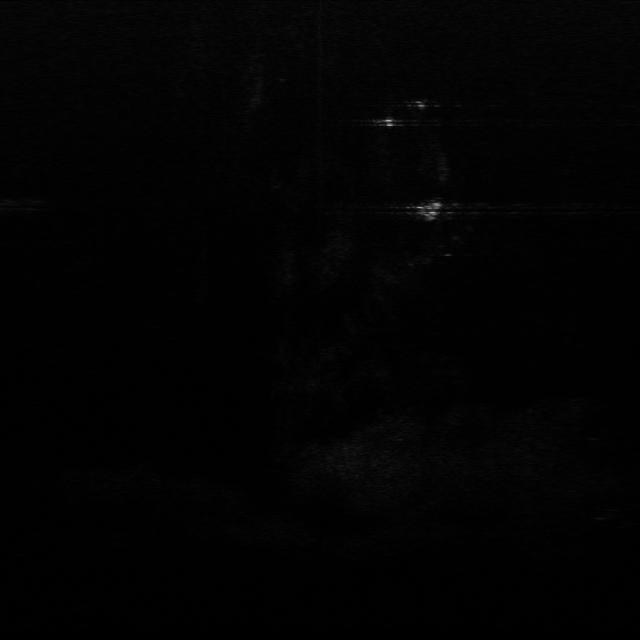rov: (412, 199, 444, 224)
